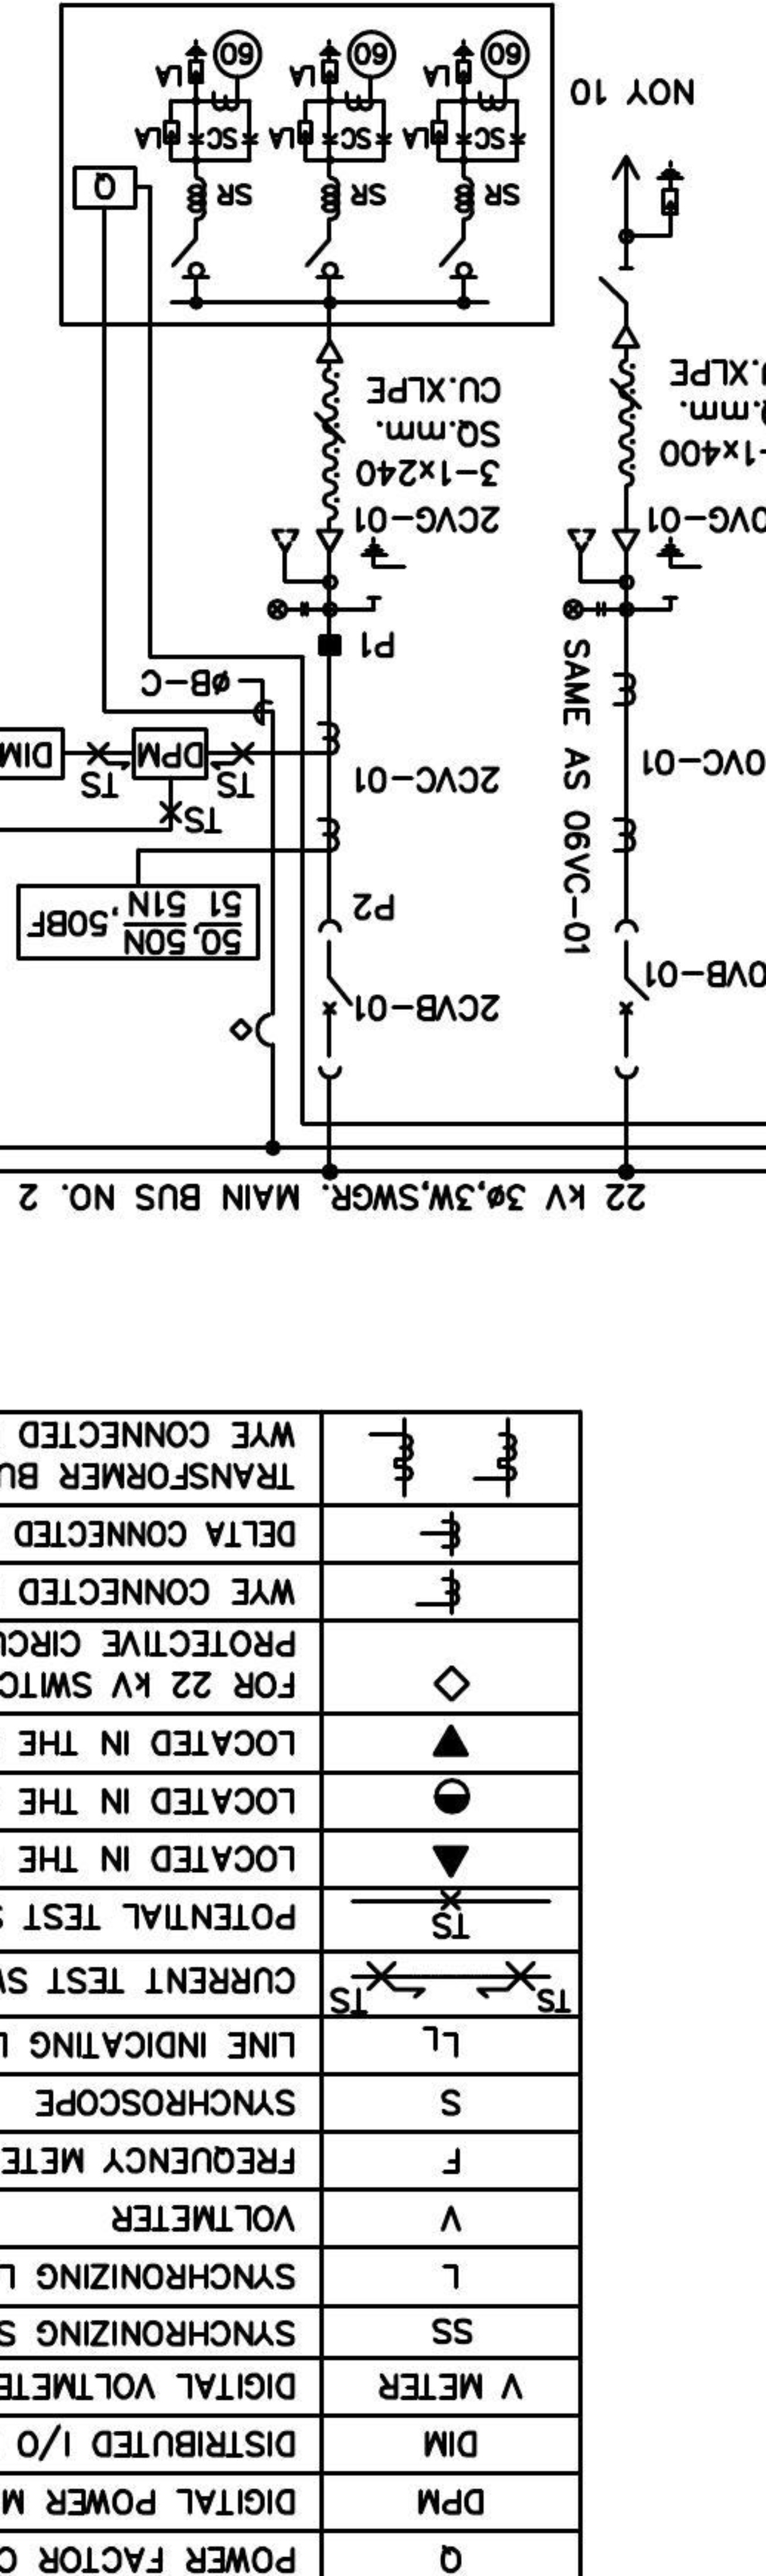22_breaker: (611, 917, 651, 1081), (316, 917, 355, 1081)
22_cap_bank: (58, 2, 556, 327)
22_ds_la_out: (597, 153, 685, 304)
22_gs: (358, 534, 408, 601), (654, 534, 704, 600)
22_ll: (562, 598, 607, 623), (266, 598, 311, 623)
DPM: (130, 724, 210, 782)
Q: (71, 164, 138, 210)
terminator_single: (610, 324, 641, 350), (316, 338, 345, 365)
terminator_w_future: (565, 527, 641, 585), (270, 527, 345, 585)
